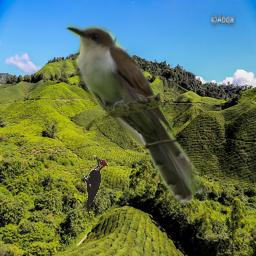Cuckoo: (64, 22, 203, 204)
Woodpecker: (80, 155, 108, 217)
